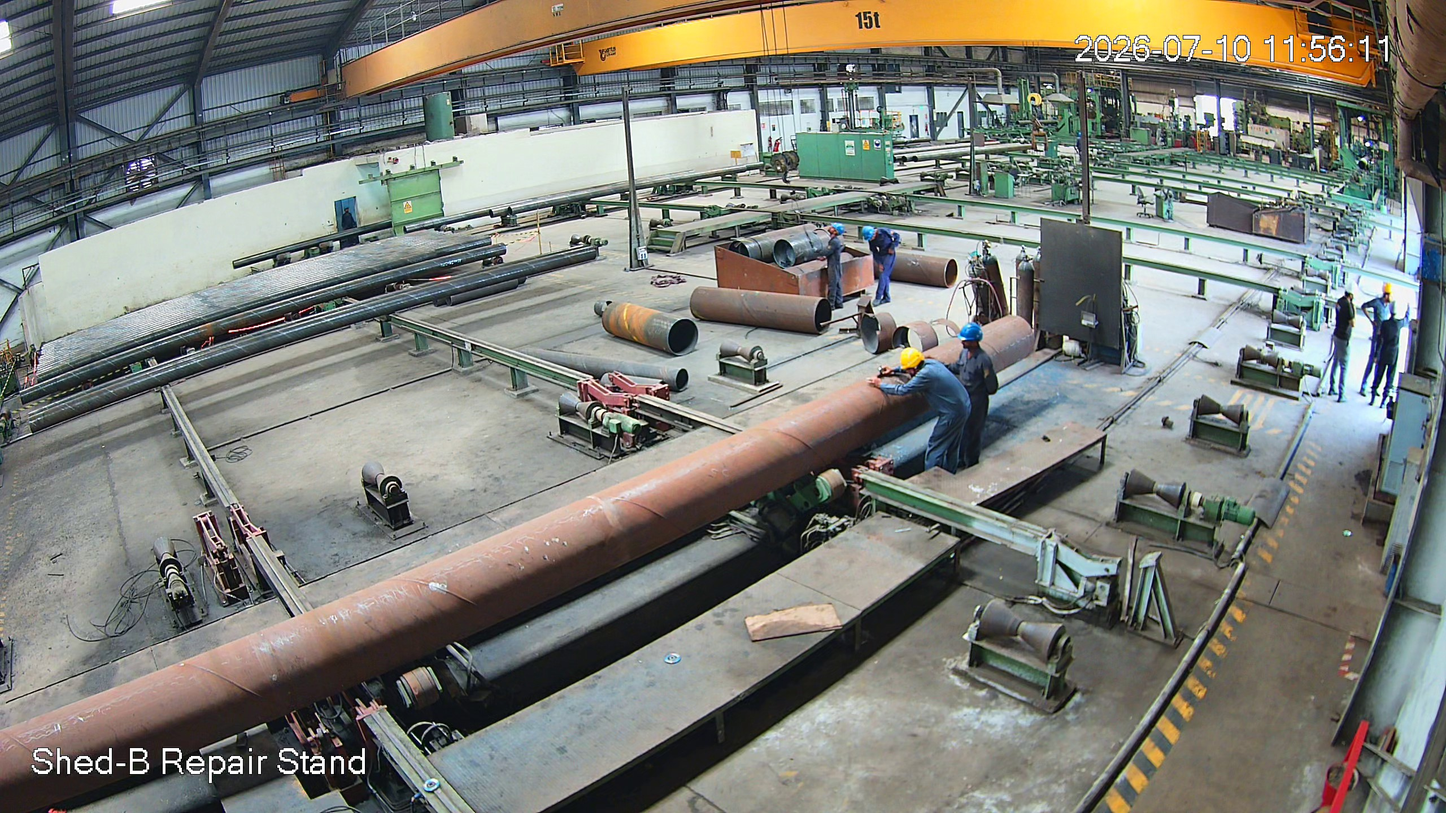Helmet: (893, 343, 943, 394), (956, 322, 989, 365), (860, 223, 883, 252), (824, 221, 847, 245), (1379, 281, 1401, 305), (1387, 299, 1405, 325)
Person: (882, 345, 970, 479), (953, 323, 1002, 473), (1323, 282, 1364, 413), (1365, 283, 1399, 410), (1377, 300, 1412, 417), (858, 224, 902, 313), (821, 222, 848, 322)
